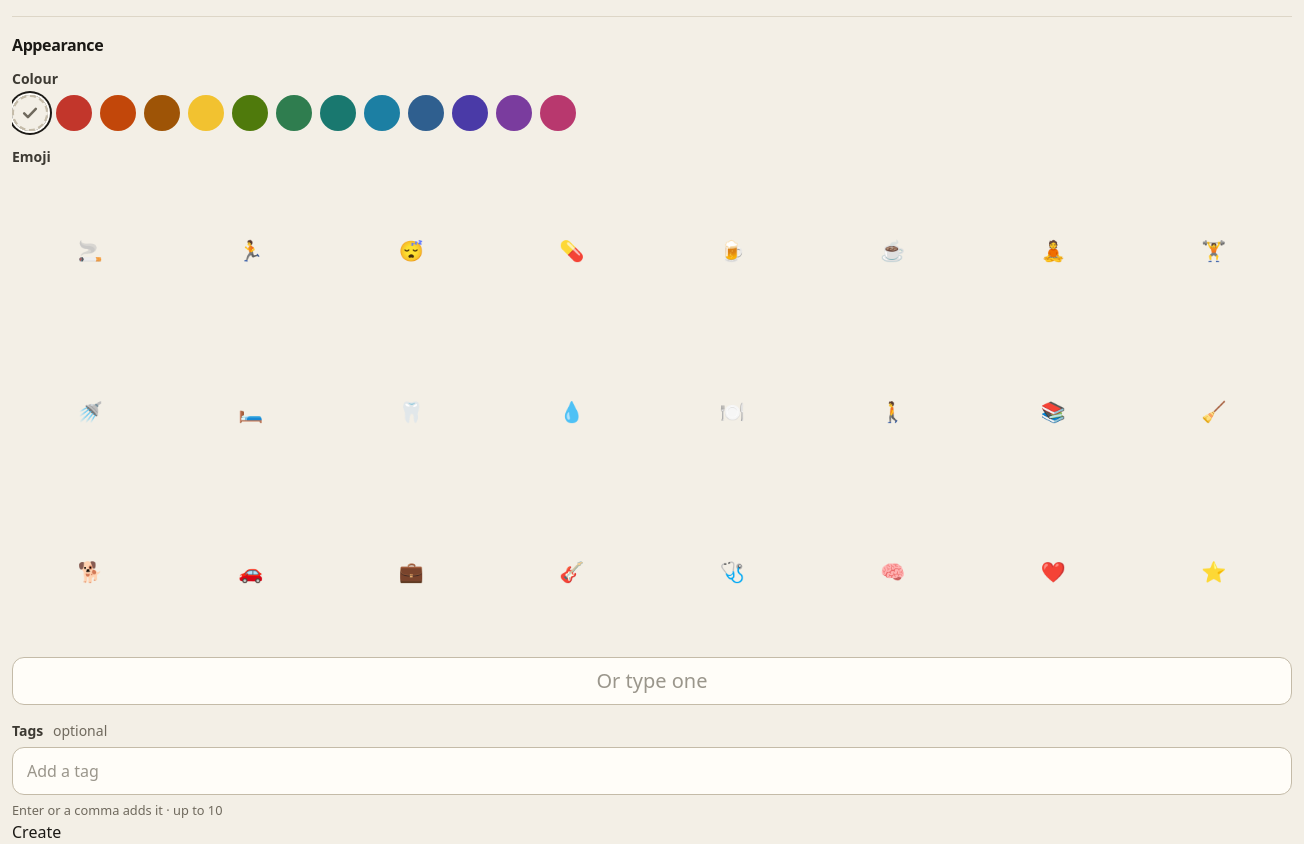
TopicMetaFields appearance (new topic) › adds the complete parts of a pasted list and keeps the rest
(page scrolled)
Click the field labelled "Tags optional": (652,771) [12,747,1292,795]
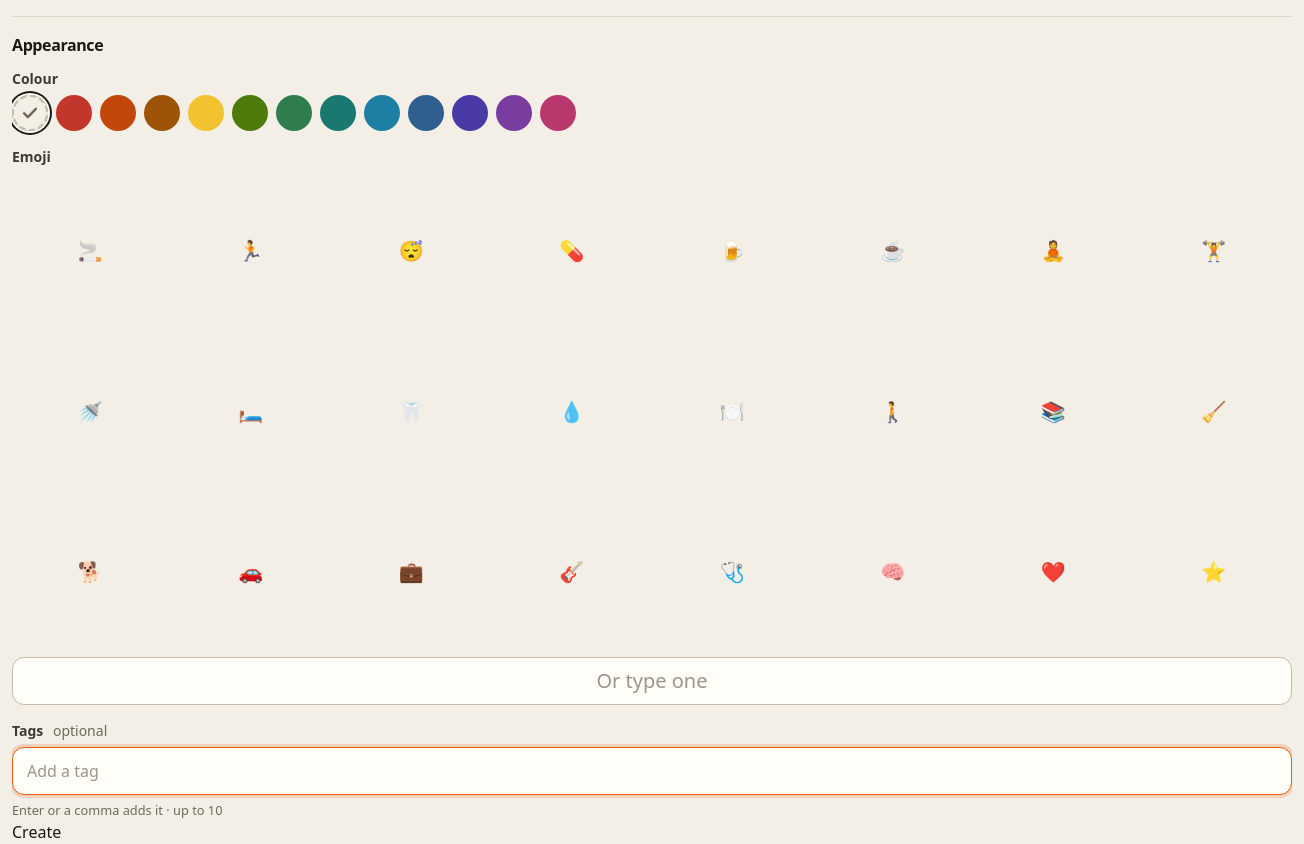
Type keys "a, b, A, c"
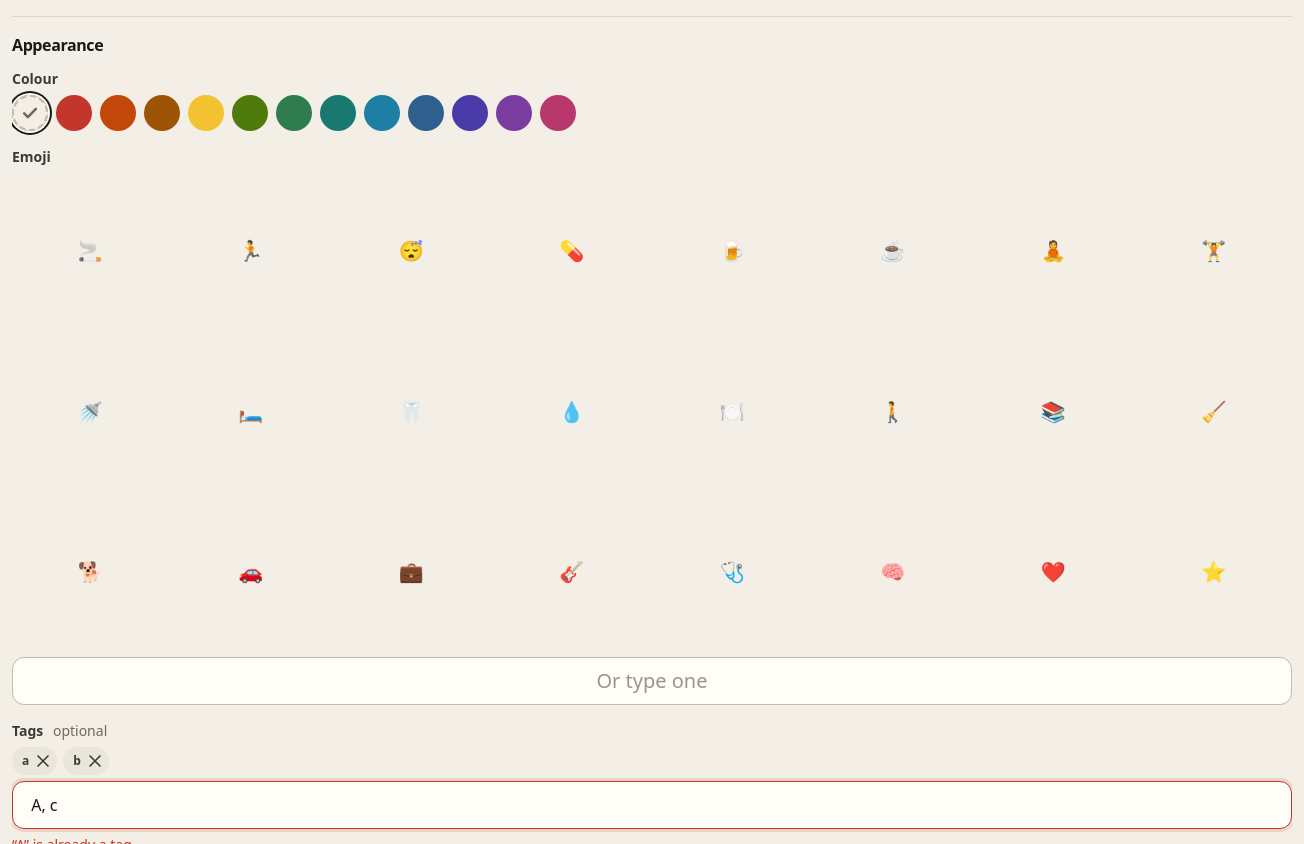
Check: the field labelled "Tags optional" holds " A, c", box [12,781,1292,829]
